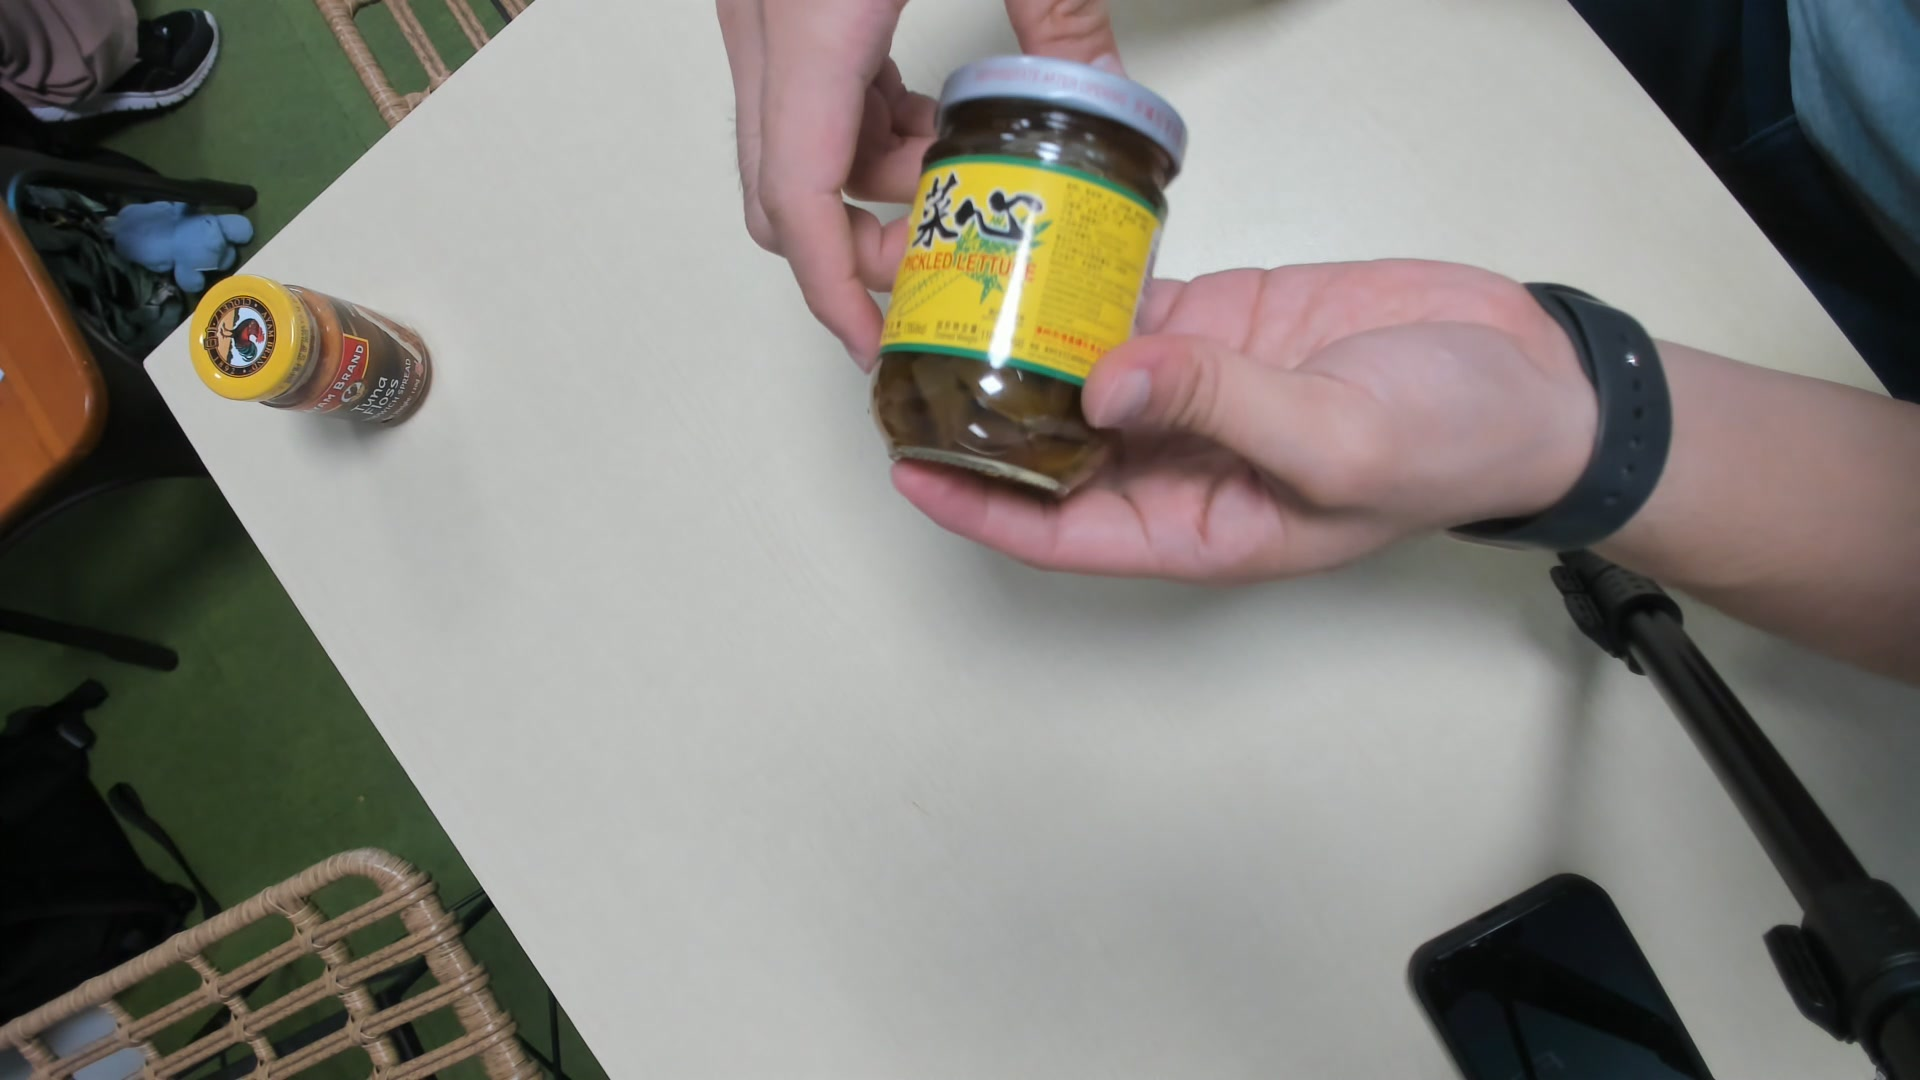OtherSauceDressing_200-299g_Halal_NonHealthy: (866, 57, 1193, 506)
